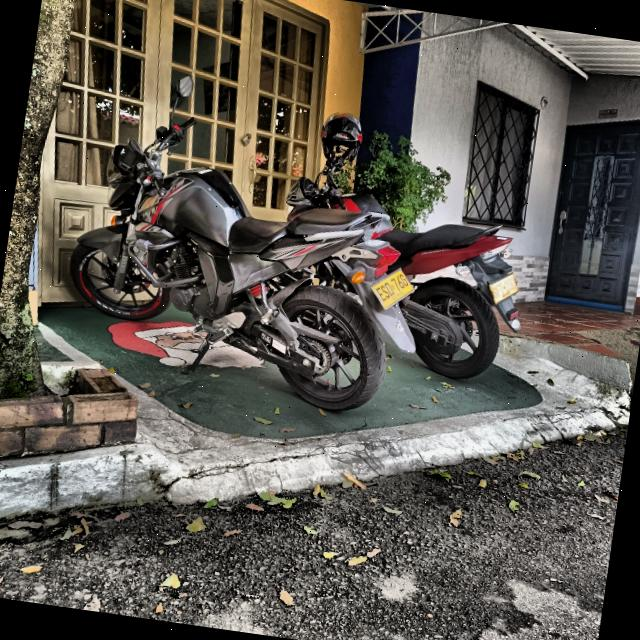plate: (372, 269, 414, 309)
